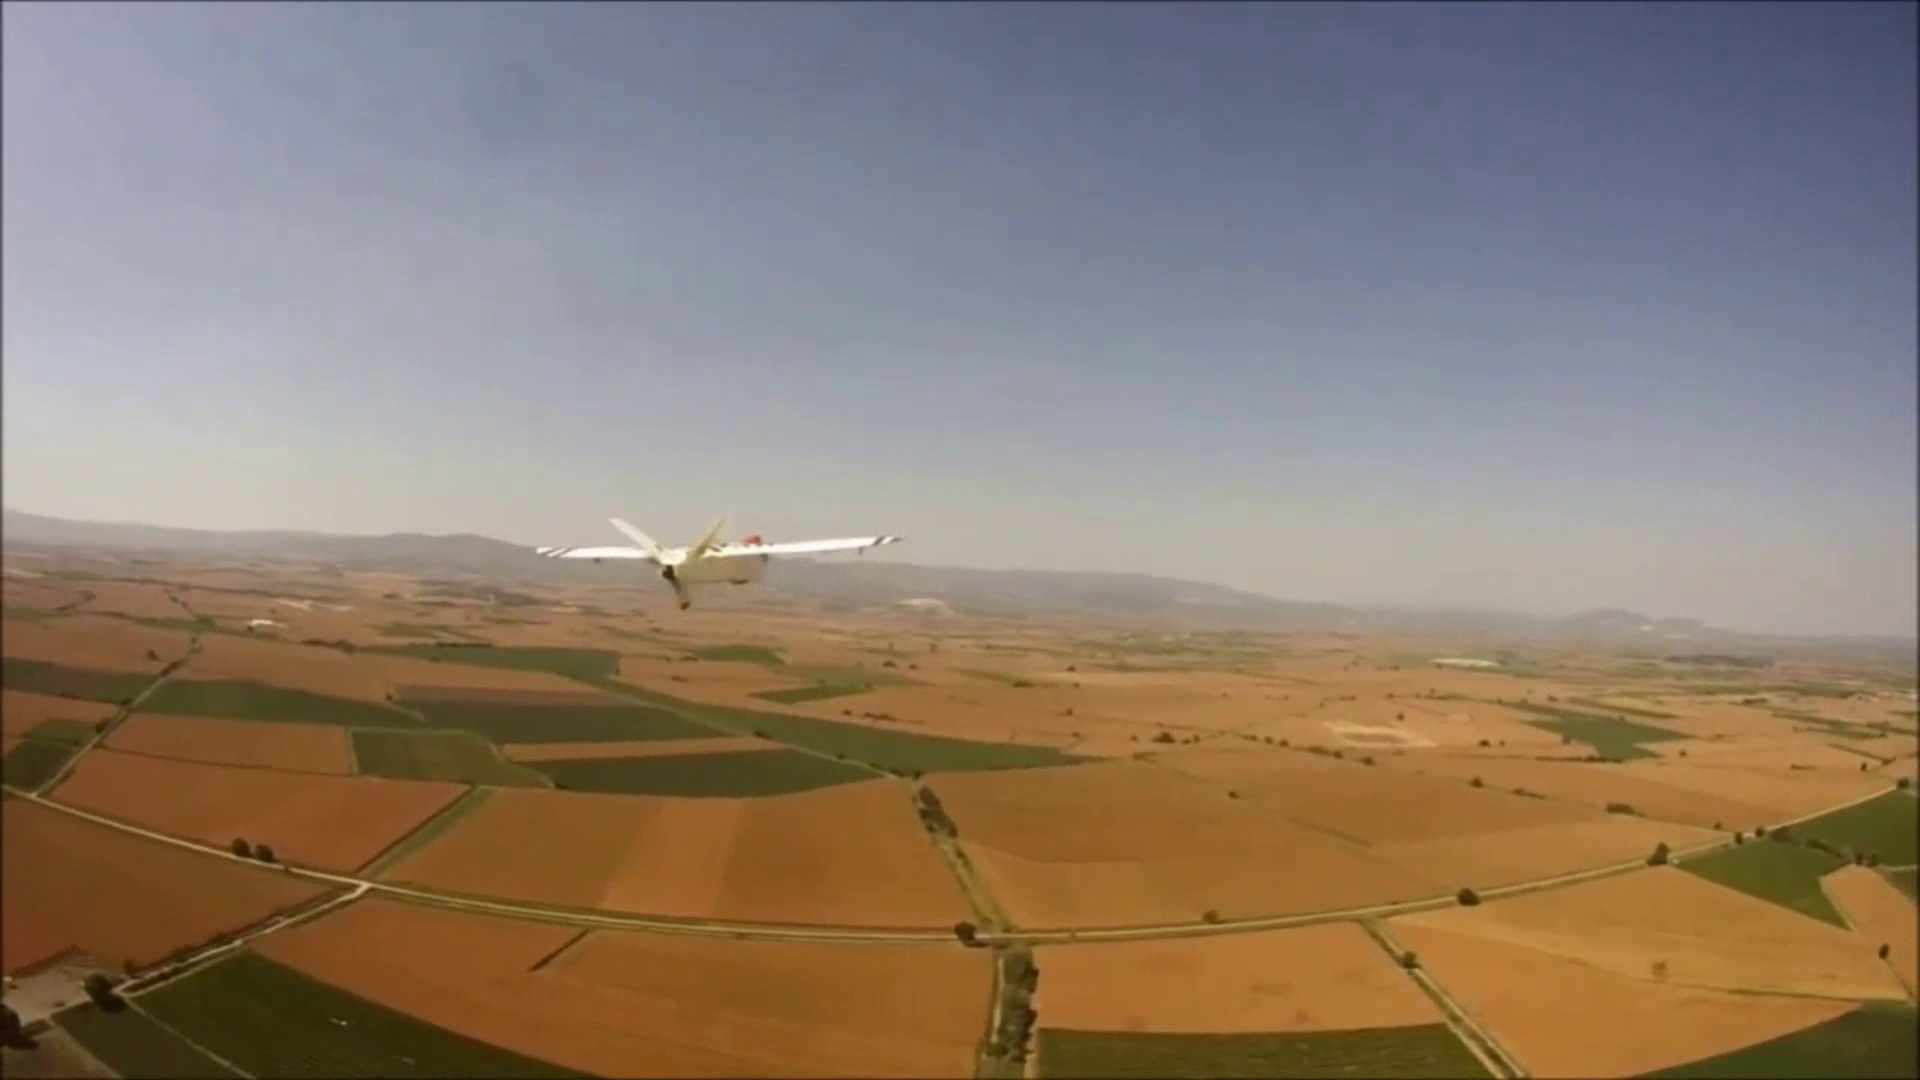airplane: (7, 690, 1834, 1071), (535, 509, 905, 609)
